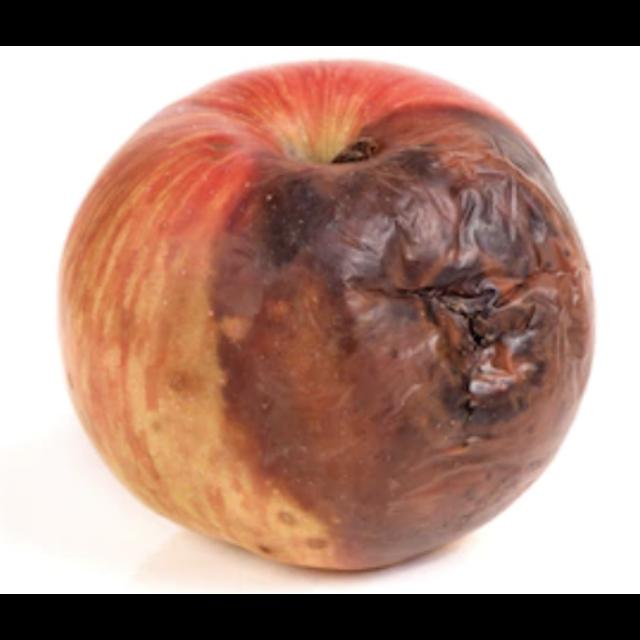Apel Tidak Segar: (34, 56, 610, 574)
